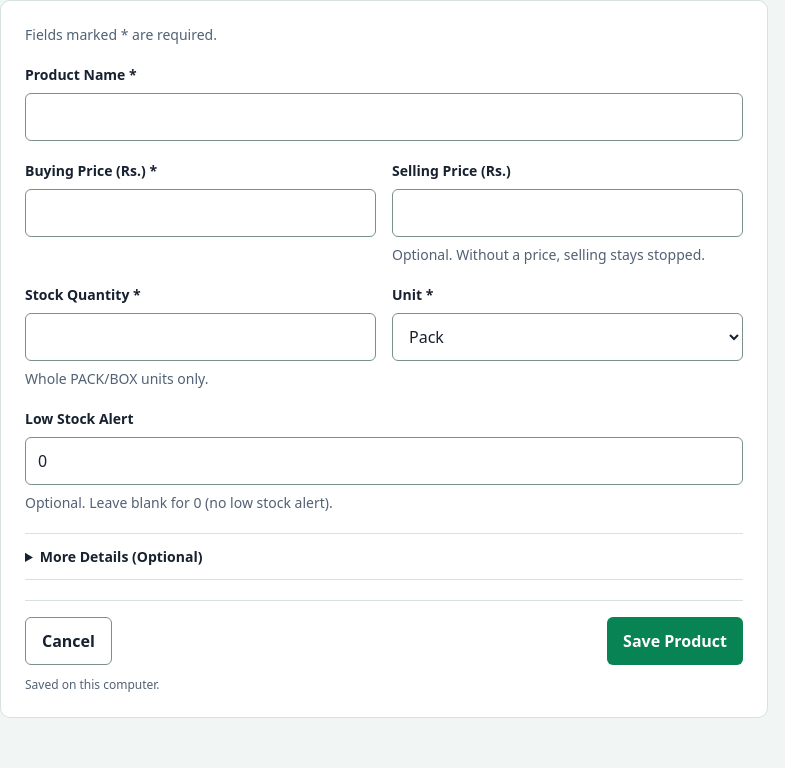
it: identifies the fractional PACK/BOX stock field instead of blaming all inputs
Type "diape" into the field labelled "Product Name *" at (384, 117), box 25,93 -> 743,141
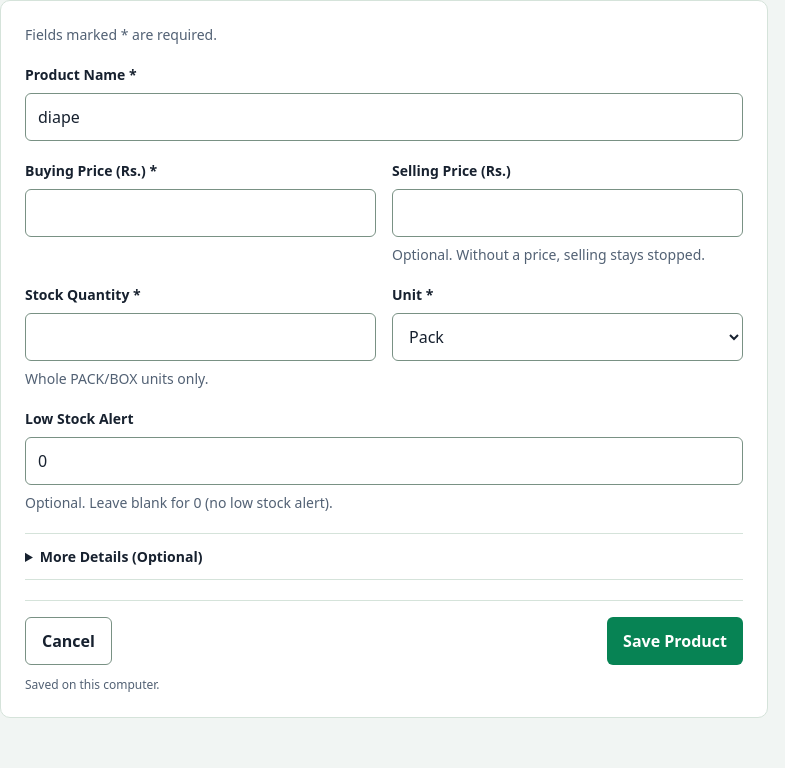
Type "10" into the field labelled "Buying Price (Rs.) *" at (200, 213), box 25,189 -> 376,237
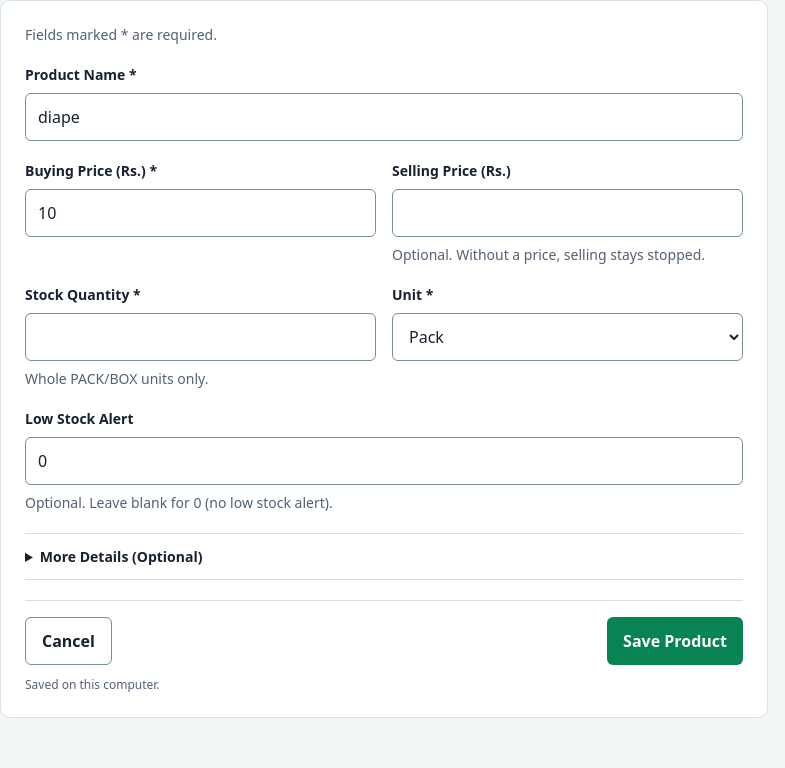
Type "30" into the field labelled "Selling Price (Rs.)" at (568, 213), box 392,189 -> 743,237
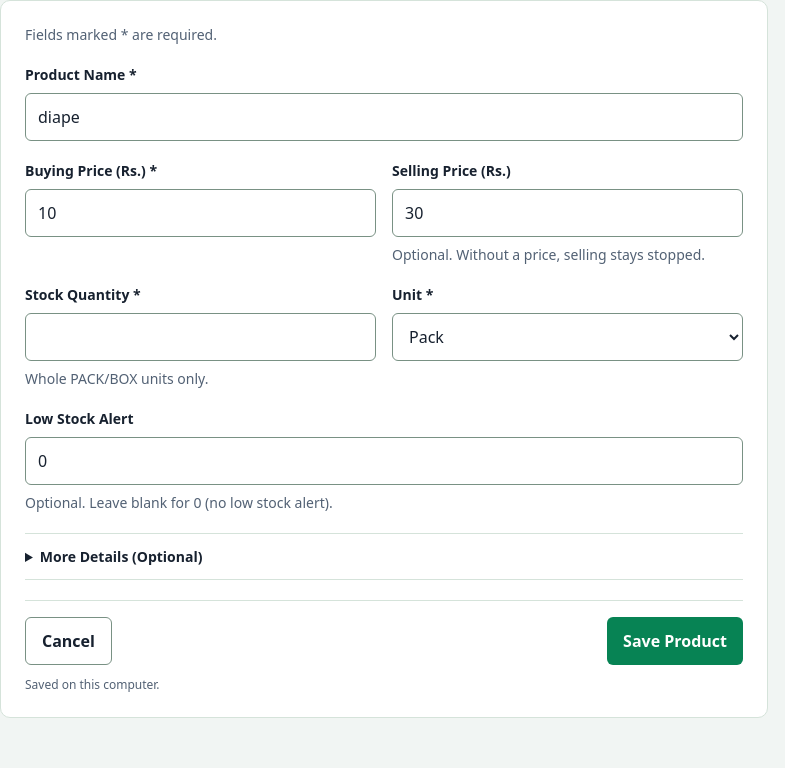
Type "2" into the field labelled "Stock Quantity *" at (200, 337), box 25,313 -> 376,361
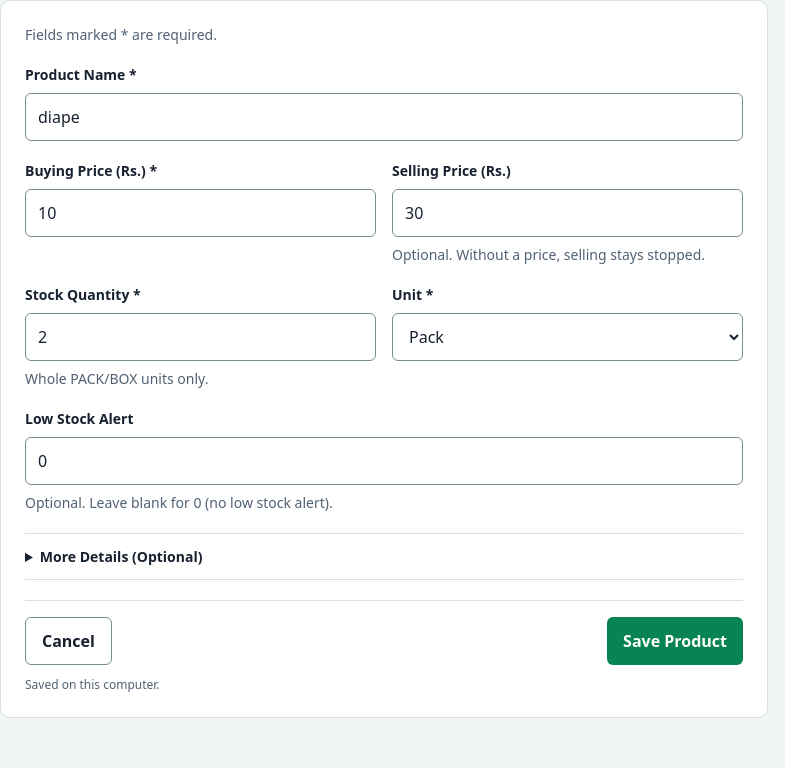
Replace the text in the field labelled "Stock Quantity *" with "1.5" at (200, 337), box 25,313 -> 376,361
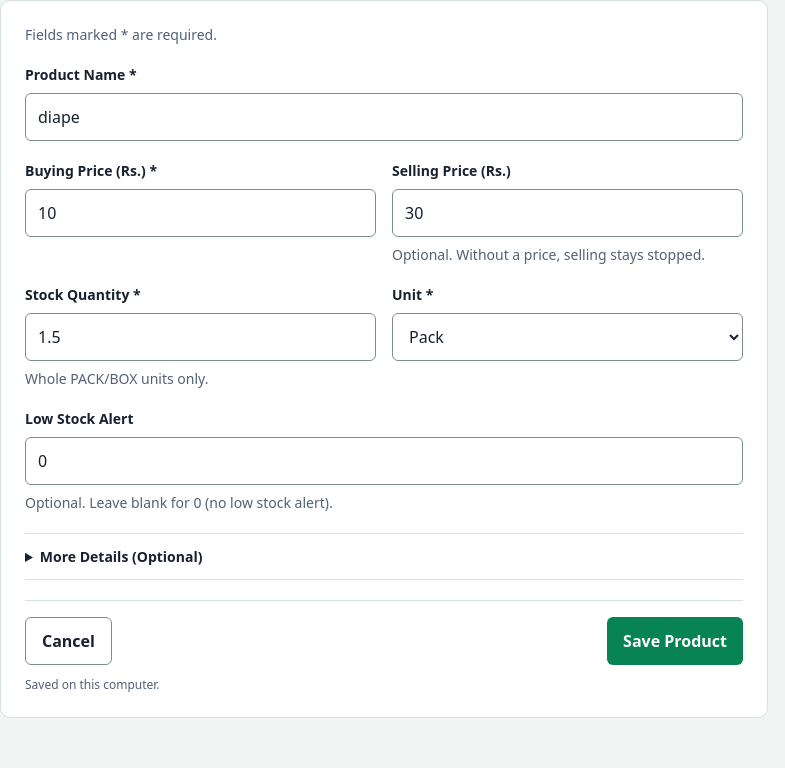
Submit the form named "Add product"
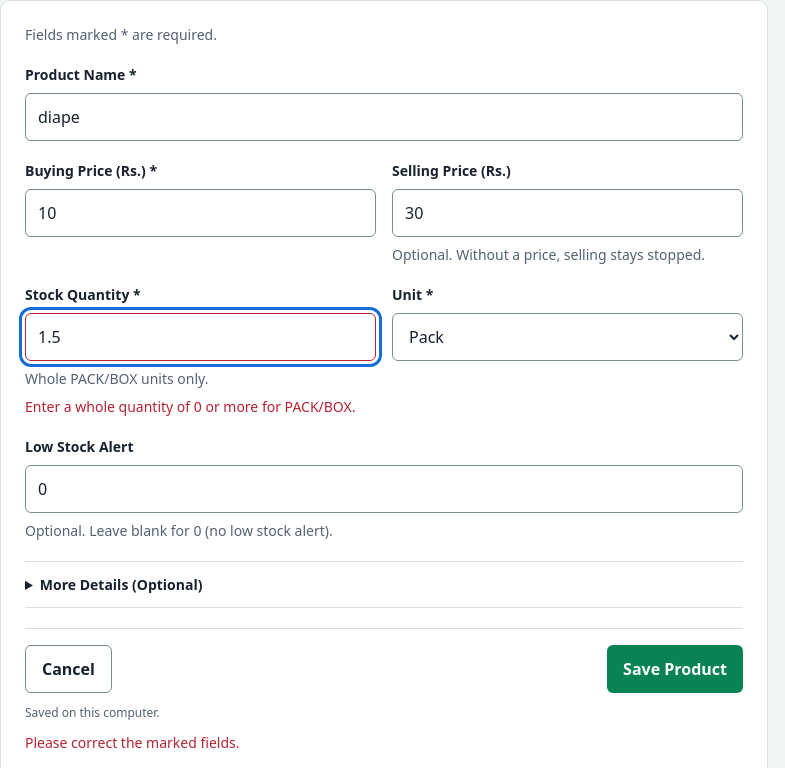
Now the text "Enter a whole quantity of 0 or more for PACK/BOX." is shown, box 25,397 -> 376,417
